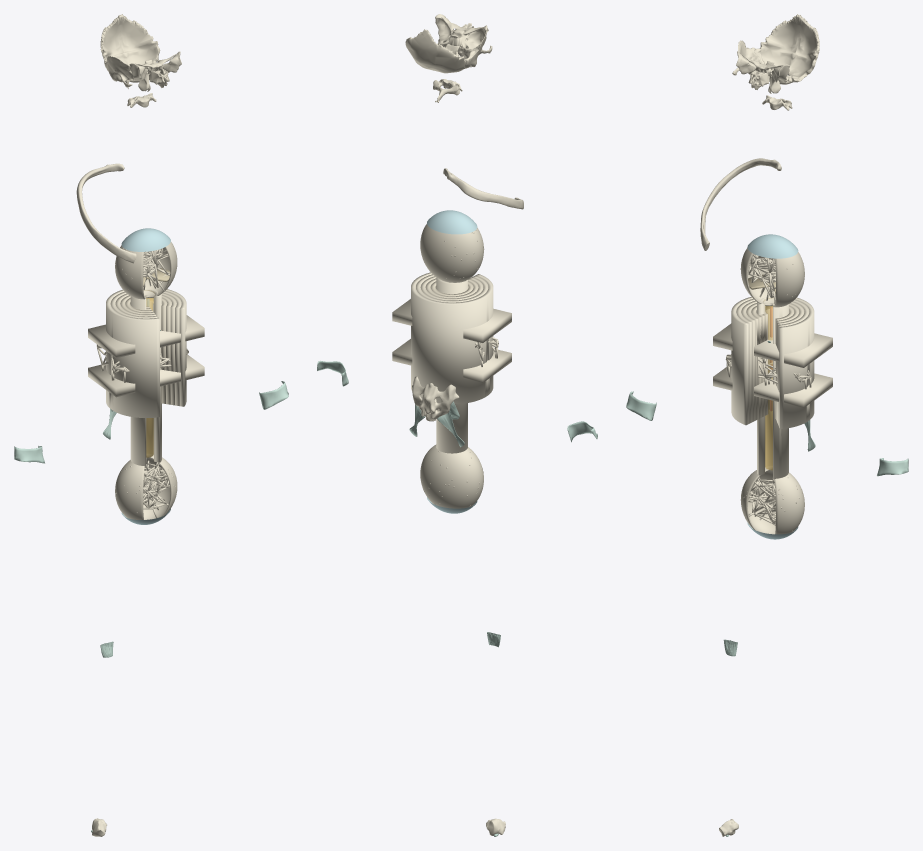
Rendered from landmark-details.glb.
3 views of the same model, side by side, from view 1: azimuth 30°, elevation 25°; view 2: azimuth 150°, elevation 25°; view 3: azimuth 330°, elevation 25° (orthographic). The views are drawn at different scales.
Visible parts, largest first — view 1: Concentric lamella 7, long-bone distal epiphysis, Occipital bone, long-bone proximal epiphysis, long-bone cortical shaft, Outer compact table, Inner compact table, Fifth rib.r, long-bone cartilage 1, Sphenoid bone, Concentric lamella 6, Concentric lamella 5 (+2 smaller); view 2: Concentric lamella 7, long-bone distal epiphysis, long-bone proximal epiphysis, Occipital bone, long-bone cortical shaft, Sacrum, Outer compact table, Inner compact table, Sphenoid bone, long-bone cartilage 1, Fifth rib.r; view 3: Concentric lamella 7, Occipital bone, long-bone distal epiphysis, long-bone proximal epiphysis, long-bone cortical shaft, Outer compact table, Inner compact table, long-bone cartilage 1, Sphenoid bone, Concentric lamella 6, Fifth rib.r, Concentric lamella 5 (+4 smaller).
Boxes of the visible parts, <box> form: Concentric lamella 7: <box>106,289,186,417</box>; long-bone distal epiphysis: <box>115,455,177,519</box>; Occipital bone: <box>100,14,160,82</box>; long-bone proximal epiphysis: <box>115,242,177,299</box>; long-bone cortical shaft: <box>130,289,161,465</box>; Outer compact table: <box>88,315,204,358</box>; Inner compact table: <box>88,354,204,397</box>; Fifth rib.r: <box>76,163,136,263</box>; long-bone cartilage 1: <box>121,228,170,251</box>; Sphenoid bone: <box>129,51,181,91</box>; Concentric lamella 6: <box>110,291,181,405</box>; Concentric lamella 5: <box>115,293,176,405</box>; Concentric lamella 7: <box>411,272,493,404</box>; long-bone distal epiphysis: <box>420,444,483,508</box>; long-bone proximal epiphysis: <box>420,224,483,282</box>; Occipital bone: <box>405,29,466,73</box>; long-bone cortical shaft: <box>436,278,467,453</box>; Sacrum: <box>412,376,459,421</box>; Outer compact table: <box>392,299,511,342</box>; Inner compact table: <box>392,339,511,382</box>; Sphenoid bone: <box>435,14,488,49</box>; long-bone cartilage 1: <box>427,210,477,234</box>; Fifth rib.r: <box>443,168,523,209</box>; Concentric lamella 7: <box>731,297,814,429</box>; Occipital bone: <box>759,14,819,84</box>; long-bone distal epiphysis: <box>740,467,804,534</box>; long-bone proximal epiphysis: <box>740,248,804,307</box>; long-bone cortical shaft: <box>757,297,788,478</box>; Outer compact table: <box>713,323,832,367</box>; Inner compact table: <box>713,367,832,407</box>; long-bone cartilage 1: <box>747,234,798,258</box>; Sphenoid bone: <box>736,52,789,93</box>; Concentric lamella 6: <box>736,298,809,426</box>; Fifth rib.r: <box>700,158,781,250</box>; Concentric lamella 5: <box>741,300,804,424</box>.
Bounding box in the file's own units: 0.588 × 1.63 × 0.2055.
